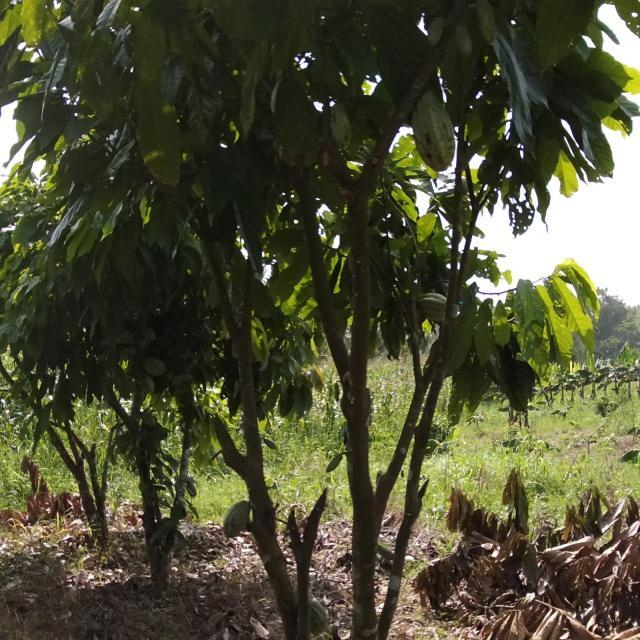Immature: (456, 24, 480, 64), (325, 449, 350, 481), (427, 17, 447, 49), (259, 435, 281, 457), (332, 380, 346, 406)
Mature_Unripe: (410, 84, 463, 178), (221, 491, 266, 545), (473, 4, 513, 48), (414, 291, 456, 331), (299, 592, 335, 636), (325, 99, 355, 151), (140, 354, 168, 391), (139, 410, 159, 432)
